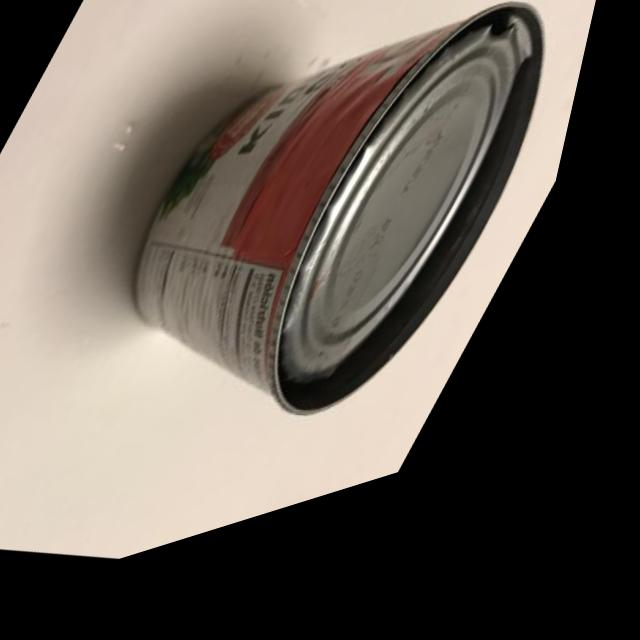metal: (0, 0, 633, 601)
